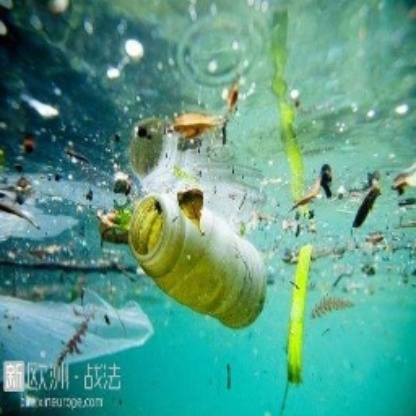bottle: (125, 186, 277, 333)
